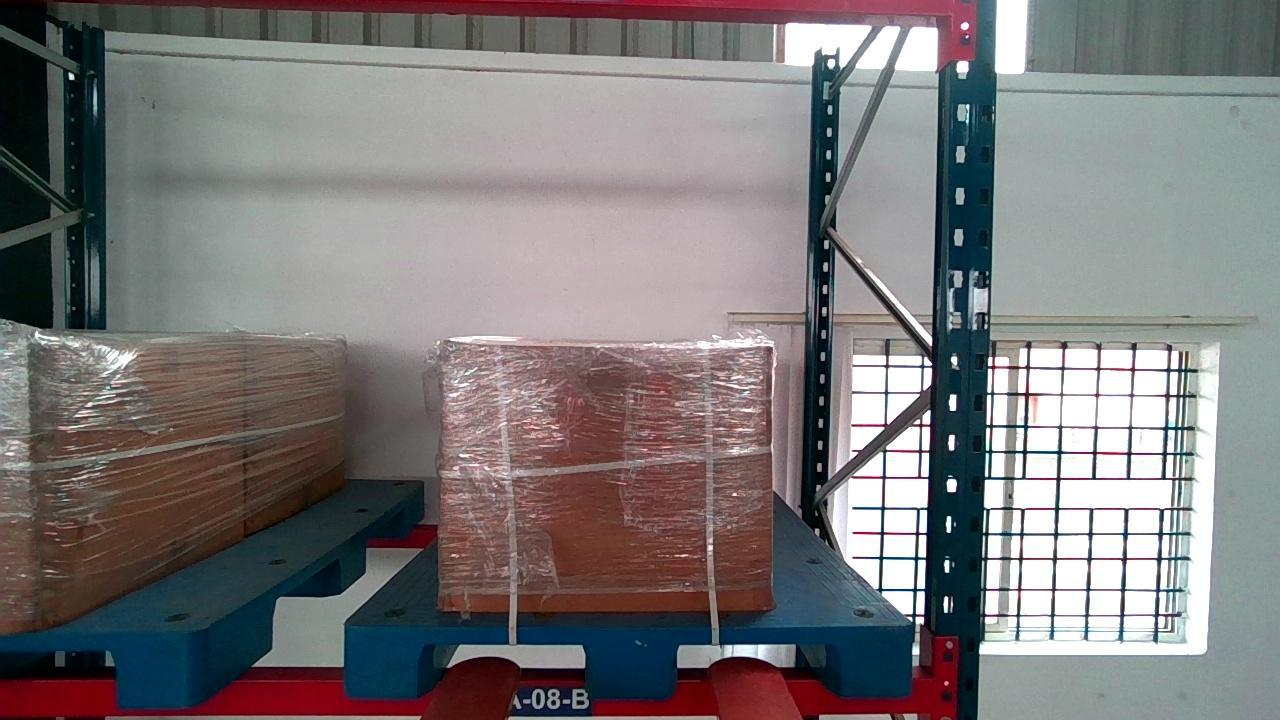h_rack: (0, 679, 933, 715)
small_pallet: (346, 624, 913, 696)
